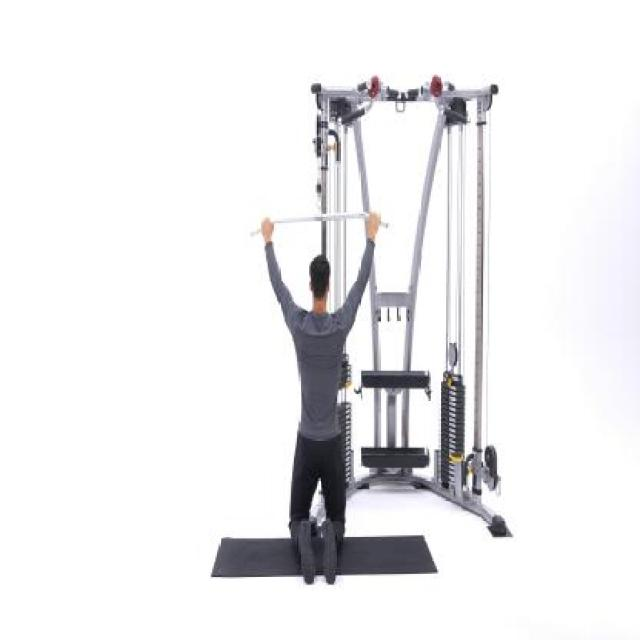Lat Pull Down: (236, 54, 530, 592)
